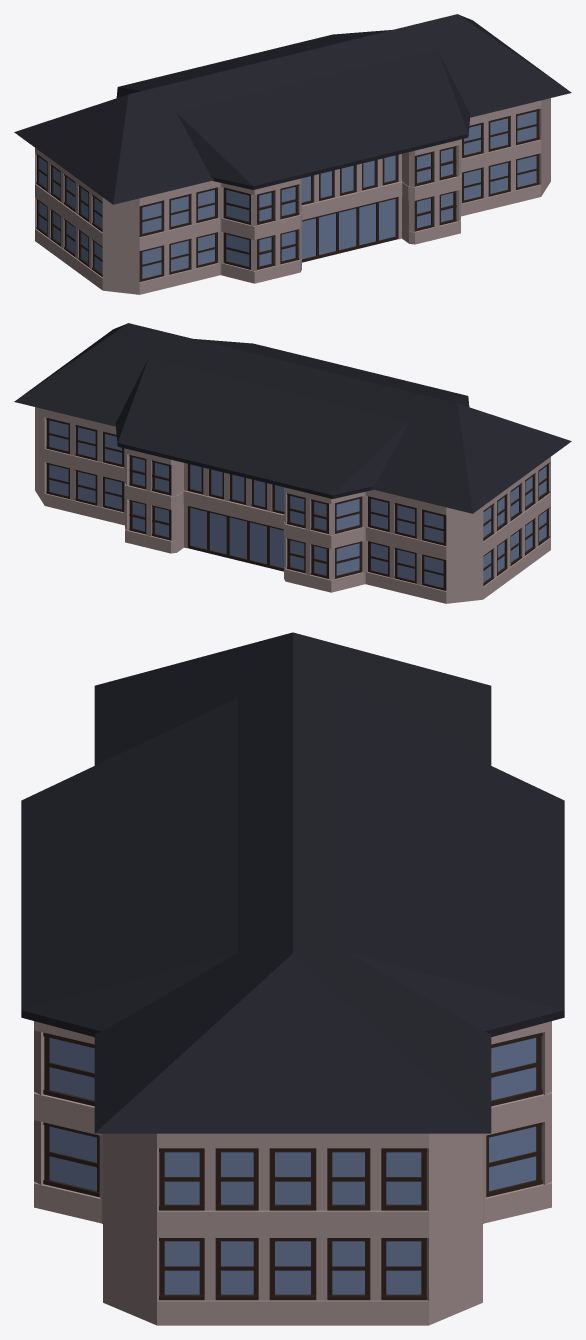
File: Building_Misc_01.fbx
3 views of the same model, one above another, from view 1: azimuth 30°, elevation 25°; view 2: azimuth 150°, elevation 25°; view 3: azimuth 270°, elevation 25° (orthographic). The views are drawn at different scales.
Parts seen in each view (by area): view 1: Building_Misc_01; view 2: Building_Misc_01; view 3: Building_Misc_01.
Part boxes in pixels (left/top/right/bottom): Building_Misc_01: left=14, top=14, right=571, bottom=294; Building_Misc_01: left=14, top=323, right=571, bottom=603; Building_Misc_01: left=21, top=632, right=564, bottom=1325.
Bounding box in the file's own units: 31.74 × 10.38 × 16.27.
